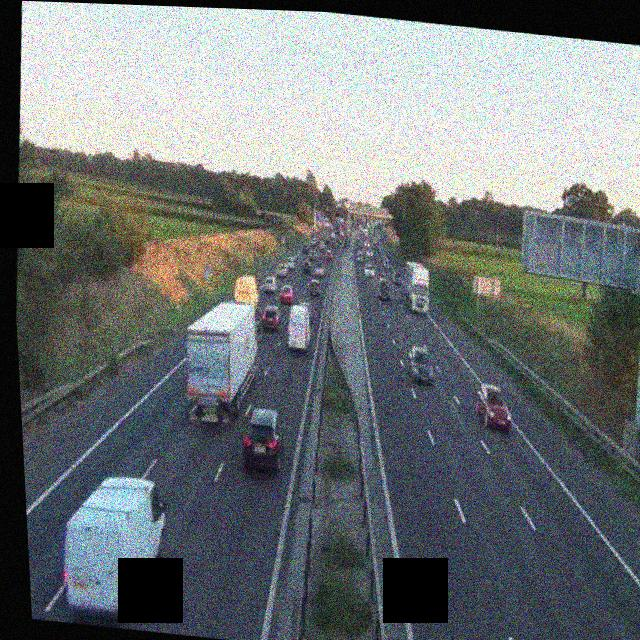car: (55, 470, 173, 625), (239, 404, 287, 473), (473, 382, 512, 430), (404, 344, 435, 385), (258, 304, 281, 331), (376, 277, 392, 300), (278, 283, 294, 305), (261, 273, 277, 294), (307, 278, 321, 298), (275, 261, 289, 279), (300, 257, 311, 275), (358, 258, 367, 272), (323, 247, 332, 260), (303, 241, 312, 254)
truck: (179, 296, 265, 428), (399, 262, 431, 314), (284, 304, 314, 353), (232, 274, 260, 313)
